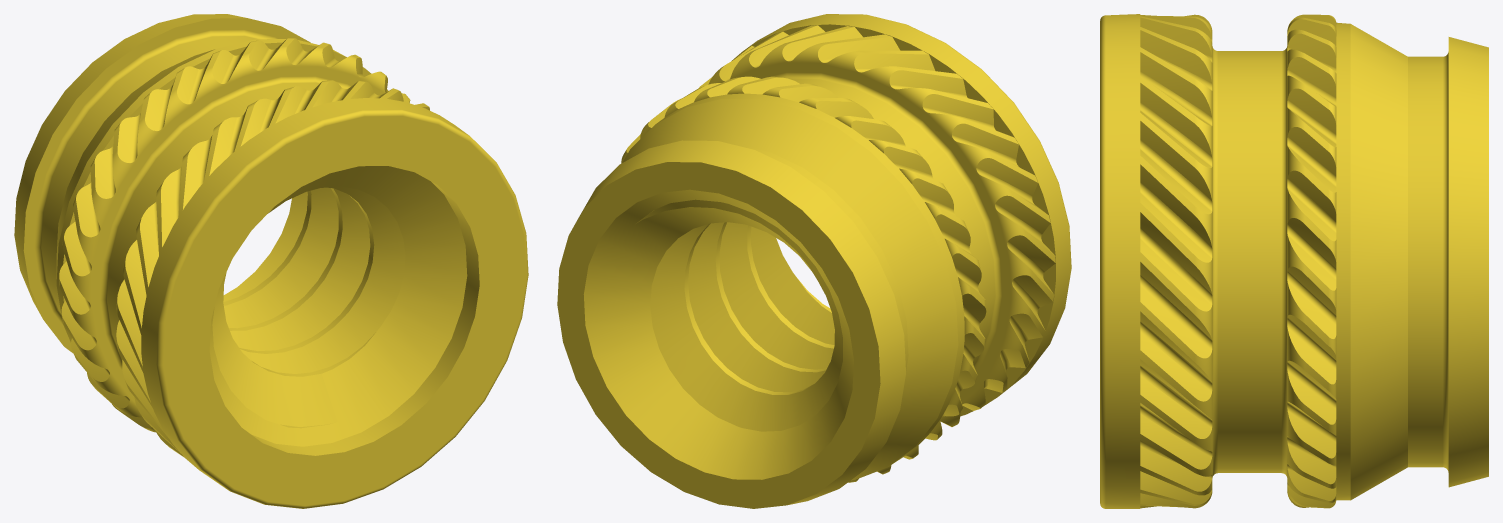
Rendered from _93365A120_Brass_Tapered_Heat_Set_Inserts_for_Plastic.gltf.
3 renders of one model, left to right at view 1: azimuth 30°, elevation 25°; view 2: azimuth 150°, elevation 25°; view 3: azimuth 270°, elevation 25°, orthographic. The views are drawn at different scales.
Visible parts, largest first — view 1: mesh17217, mesh17214, mesh17215, mesh17219, mesh17407, mesh17218, mesh17207, mesh17205, mesh17410, mesh17216, mesh17408, mesh17204 (+20 smaller); view 2: mesh17212, mesh17210, mesh17209, mesh17208, mesh17204, mesh17219, mesh17413, mesh17410, mesh17412, mesh17220, mesh17414, mesh17411 (+18 smaller); view 3: mesh17410, mesh17208, mesh17204, mesh17219, mesh17207, mesh17220, mesh17413, mesh17407, mesh17409, mesh17411, mesh17218, mesh17206 (+59 smaller).
Part boxes in pixels (left/top/right/bottom): mesh17217: left=163, top=116, right=525, bottom=505; mesh17214: left=212, top=186, right=405, bottom=426; mesh17215: left=209, top=166, right=467, bottom=446; mesh17219: left=141, top=98, right=467, bottom=488; mesh17407: left=70, top=46, right=409, bottom=432; mesh17218: left=156, top=109, right=528, bottom=508; mesh17207: left=41, top=36, right=257, bottom=312; mesh17205: left=23, top=18, right=310, bottom=353; mesh17410: left=107, top=82, right=319, bottom=345; mesh17216: left=251, top=181, right=479, bottom=455; mesh17408: left=91, top=66, right=383, bottom=401; mesh17204: left=14, top=14, right=245, bottom=318; mesh17212: left=636, top=199, right=842, bottom=431; mesh17210: left=583, top=189, right=853, bottom=479; mesh17209: left=557, top=162, right=880, bottom=508; mesh17208: left=622, top=99, right=958, bottom=480; mesh17204: left=572, top=140, right=905, bottom=505; mesh17219: left=744, top=14, right=1070, bottom=394; mesh17413: left=708, top=42, right=1031, bottom=426; mesh17410: left=790, top=79, right=995, bottom=365; mesh17412: left=739, top=63, right=1010, bottom=401; mesh17220: left=656, top=93, right=964, bottom=465; mesh17414: left=732, top=24, right=1055, bottom=416; mesh17411: left=761, top=72, right=1001, bottom=371; mesh17410: left=1218, top=51, right=1281, bottom=472; mesh17208: left=1350, top=24, right=1407, bottom=499; mesh17204: left=1448, top=37, right=1488, bottom=487; mesh17219: left=1106, top=14, right=1140, bottom=508; mesh17207: left=1408, top=56, right=1442, bottom=467; mesh17220: left=1336, top=22, right=1350, bottom=500; mesh17413: left=1194, top=16, right=1212, bottom=505; mesh17407: left=1287, top=17, right=1304, bottom=506; mesh17409: left=1281, top=46, right=1287, bottom=477; mesh17411: left=1212, top=46, right=1218, bottom=477; mesh17218: left=1100, top=15, right=1105, bottom=508; mesh17206: left=1442, top=52, right=1448, bottom=472.
Size of the model in its own units: 0.00436 by 0.00437 by 0.00343.
